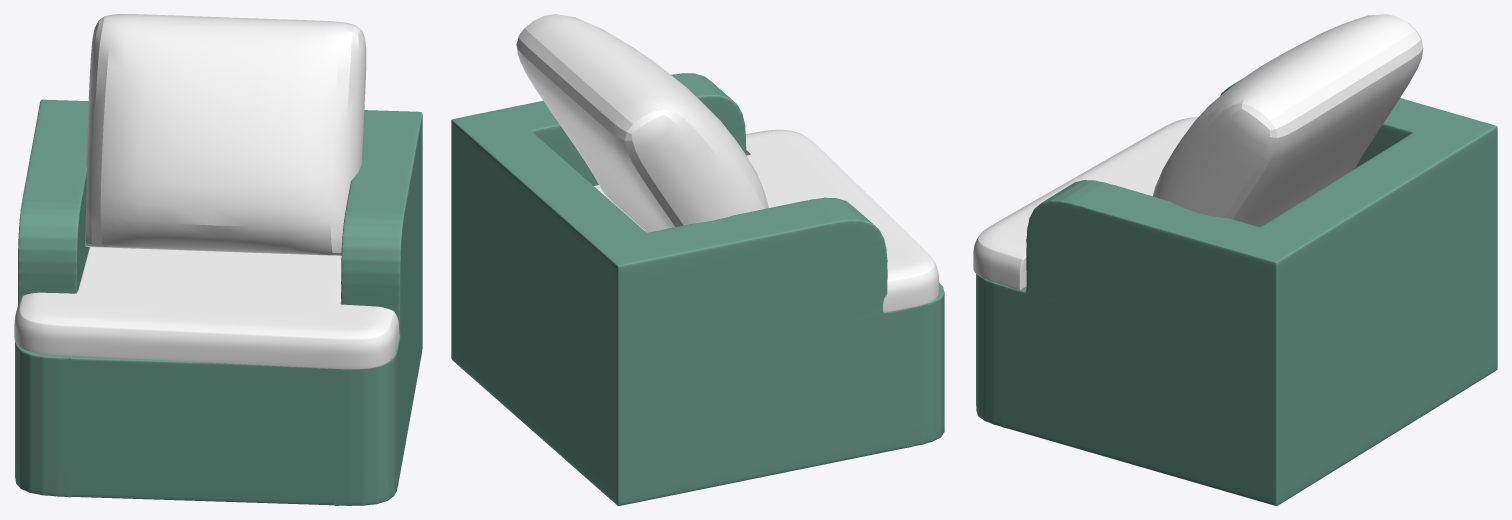
The model's file is seat.fbx.
The picture shows the model from 3 angles, left to right: view 1: azimuth 30°, elevation 25°; view 2: azimuth 150°, elevation 25°; view 3: azimuth 270°, elevation 25°; orthographic projection. The views are drawn at different scales.
Visible parts, largest first — view 1: Cube, chair.001, Cube.007; view 2: Cube, chair.001, Cube.007; view 3: Cube, chair.001, Cube.007.
Part boxes in pixels (box(x1,y1,x2,y2)): Cube: box(15, 99, 422, 505); chair.001: box(85, 14, 366, 255); Cube.007: box(14, 247, 399, 369); Cube: box(451, 73, 944, 505); chair.001: box(516, 14, 768, 232); Cube.007: box(594, 129, 939, 312); Cube: box(976, 80, 1497, 505); chair.001: box(1153, 14, 1423, 226); Cube.007: box(973, 117, 1197, 290).
Bounding box in the file's own units: 665 × 509 × 665.
